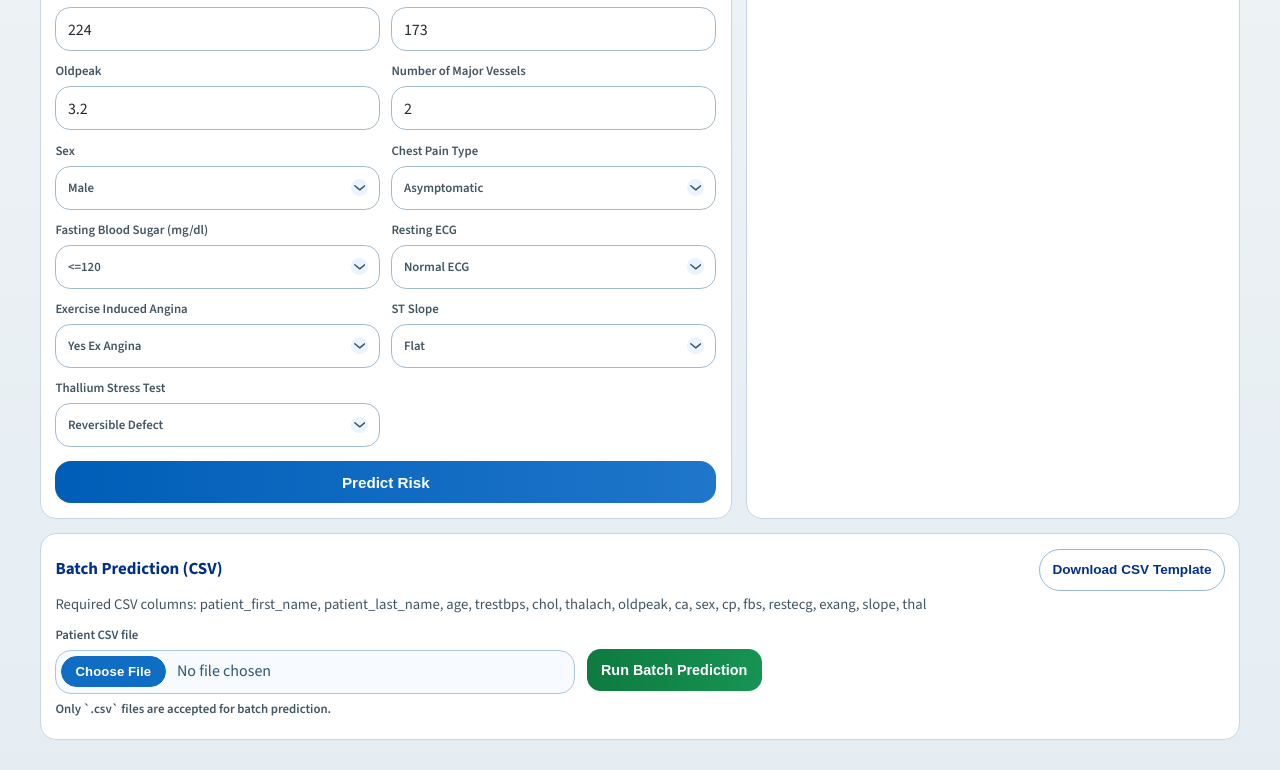
Test case: save flow requires patient first and last name
(page scrolled)
Click the button "Predict Risk".
click(386, 482)  # box x1=55 y1=462 x2=716 y2=504
(page scrolled)
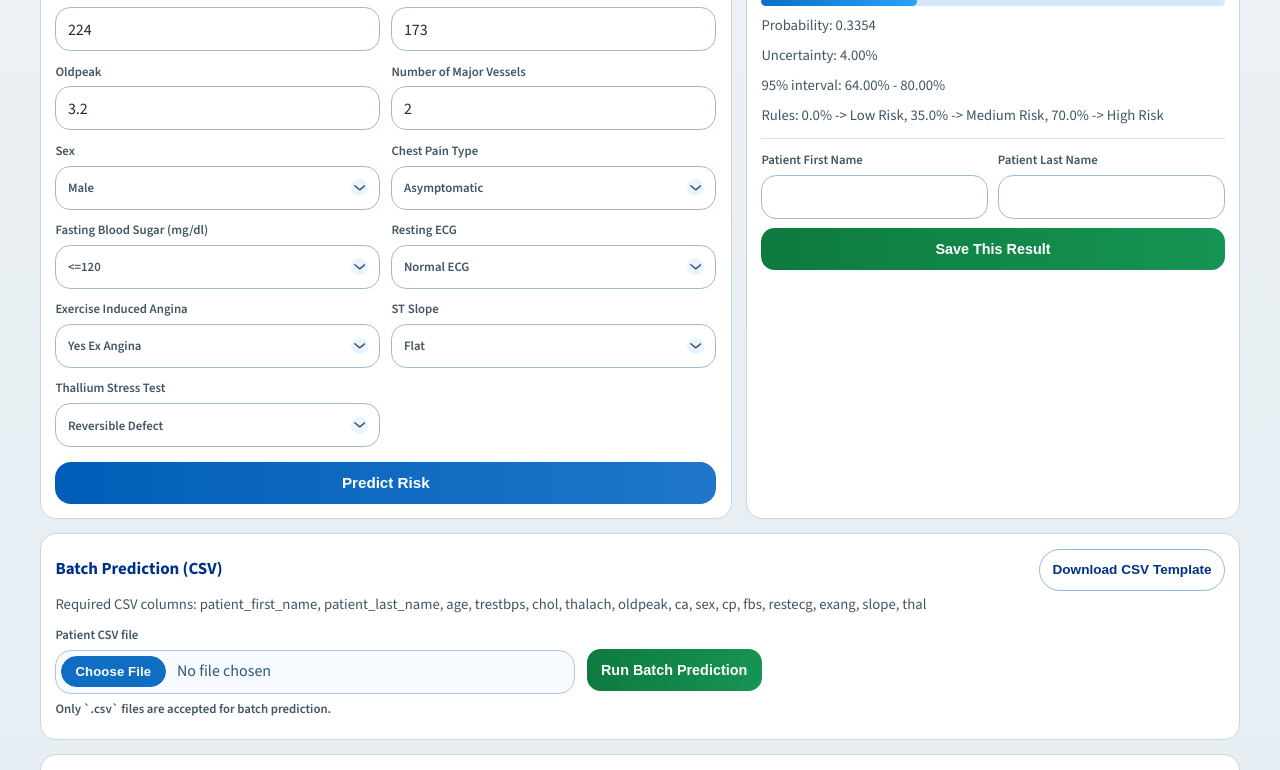
expect the button "Save This Result" is shown: met
Click the button "Save This Result".
click(993, 249)  # box x1=761 y1=228 x2=1225 y2=270
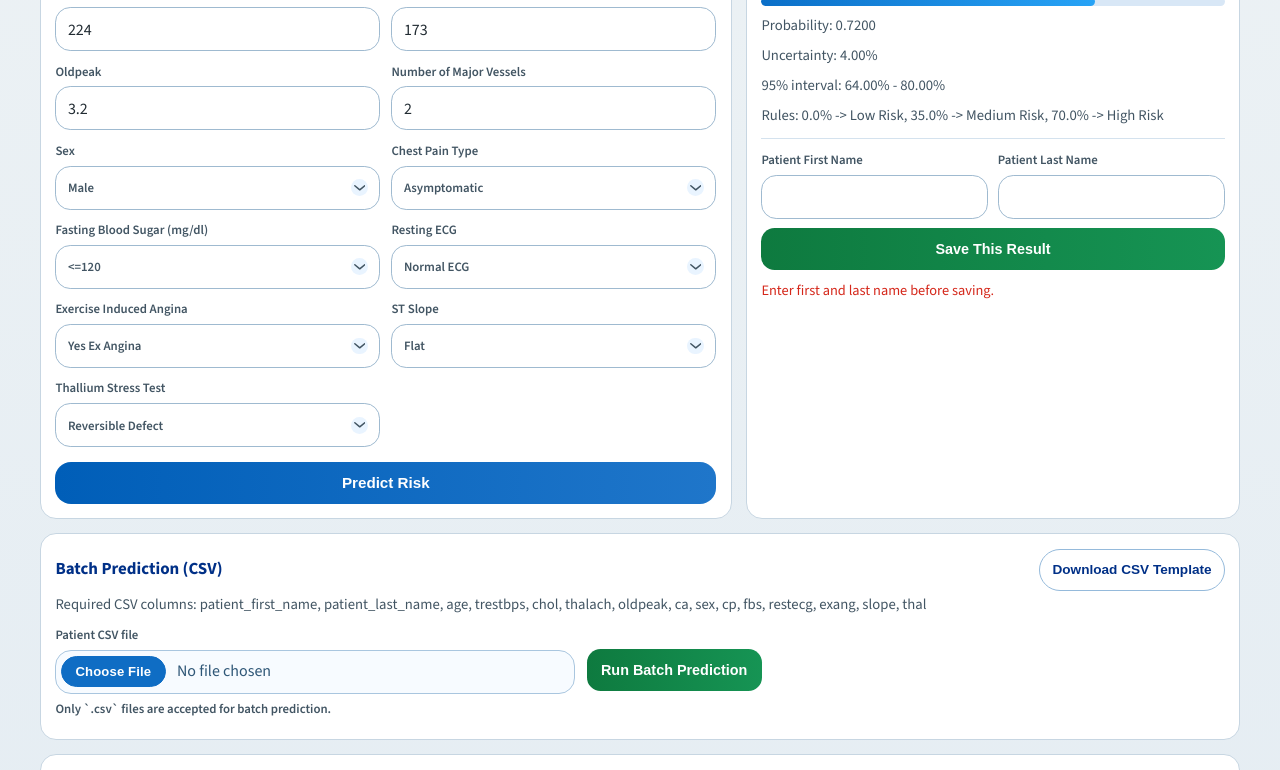
expect the text "Enter first and last name before saving." is shown: met, box x1=761 y1=281 x2=994 y2=300
